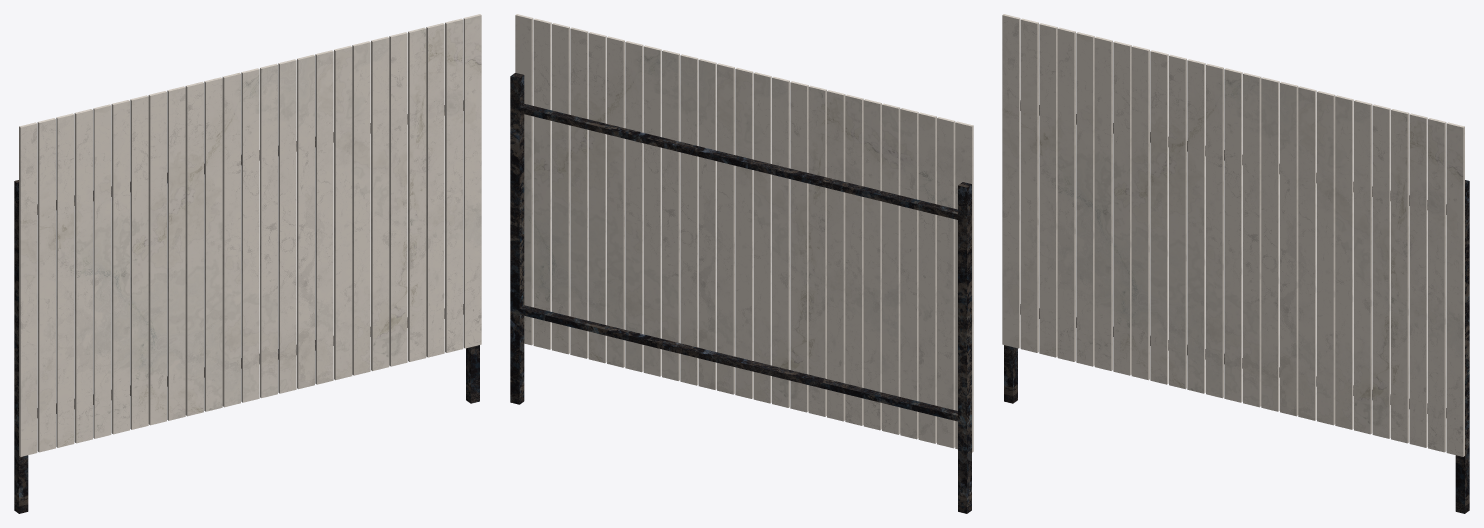
File: Забор.fbx
The picture shows the model from 3 angles, left to right: view 1: azimuth 30°, elevation 25°; view 2: azimuth 150°, elevation 25°; view 3: azimuth 330°, elevation 25°; orthographic projection.
Visible parts, largest first — view 1: Model; view 2: Model; view 3: Model.
Part boxes in pixels (x1,y1,x2,y2): Model: (14,14,481,513); Model: (510,14,973,513); Model: (1002,14,1469,513).
Bounding box in the file's own units: 249 × 200 × 6.11.
